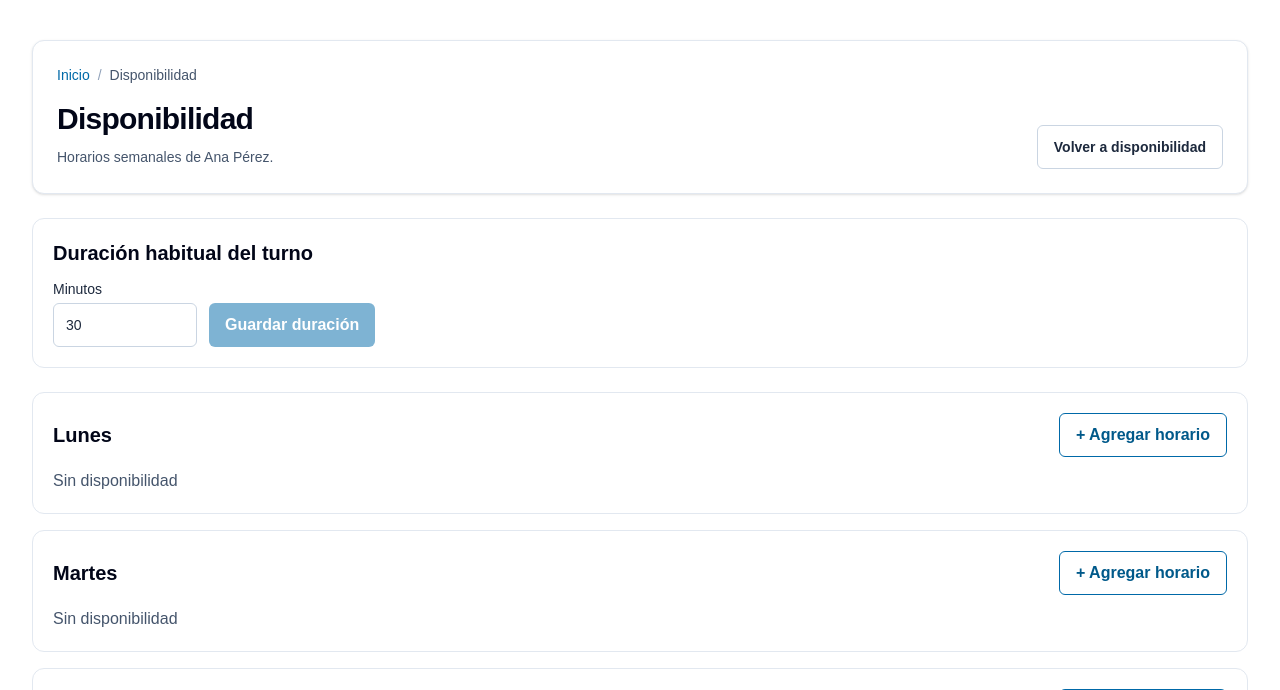
Test case: AvailabilityScreen › keeps duration disabled for equal or invalid values and disables it after success
Replace the text in the number field labelled "Minutos" with "31". click: (125, 325)
box: [53,303,197,347]
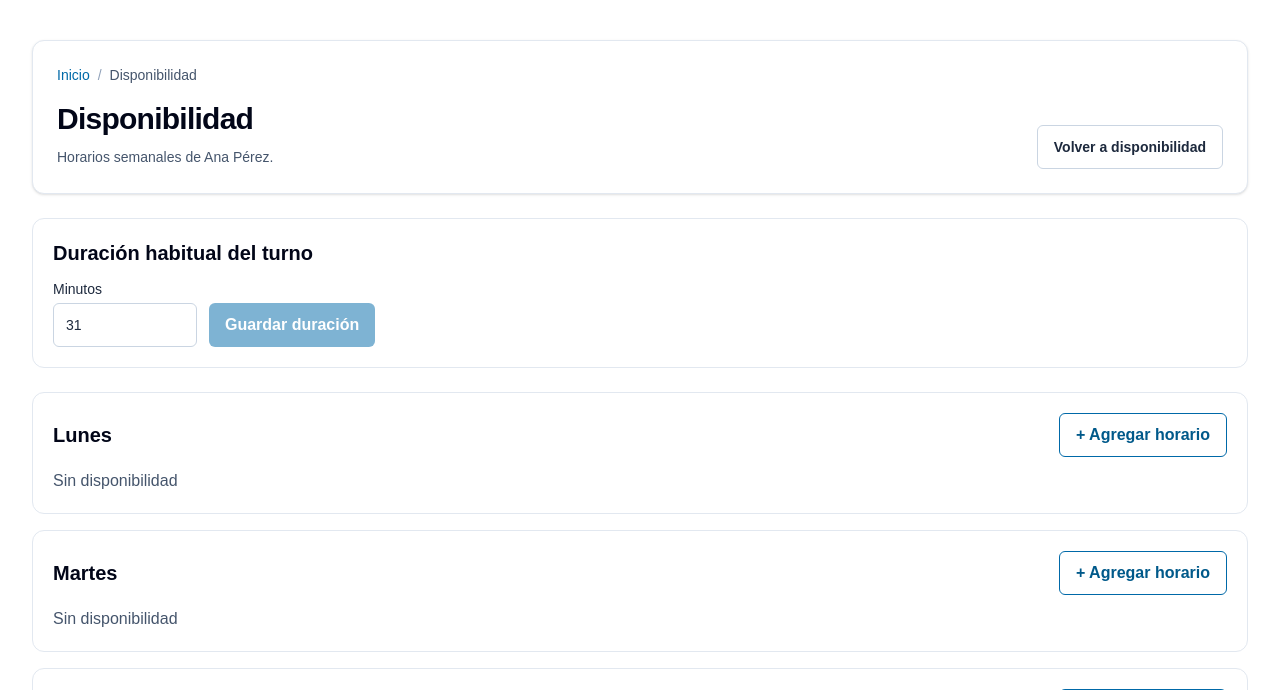
Check: the button "Guardar duración" is disabled, box [209,303,375,347]
Replace the text in the number field labelled "Minutos" with "480". click: (125, 325)
box: [53,303,197,347]
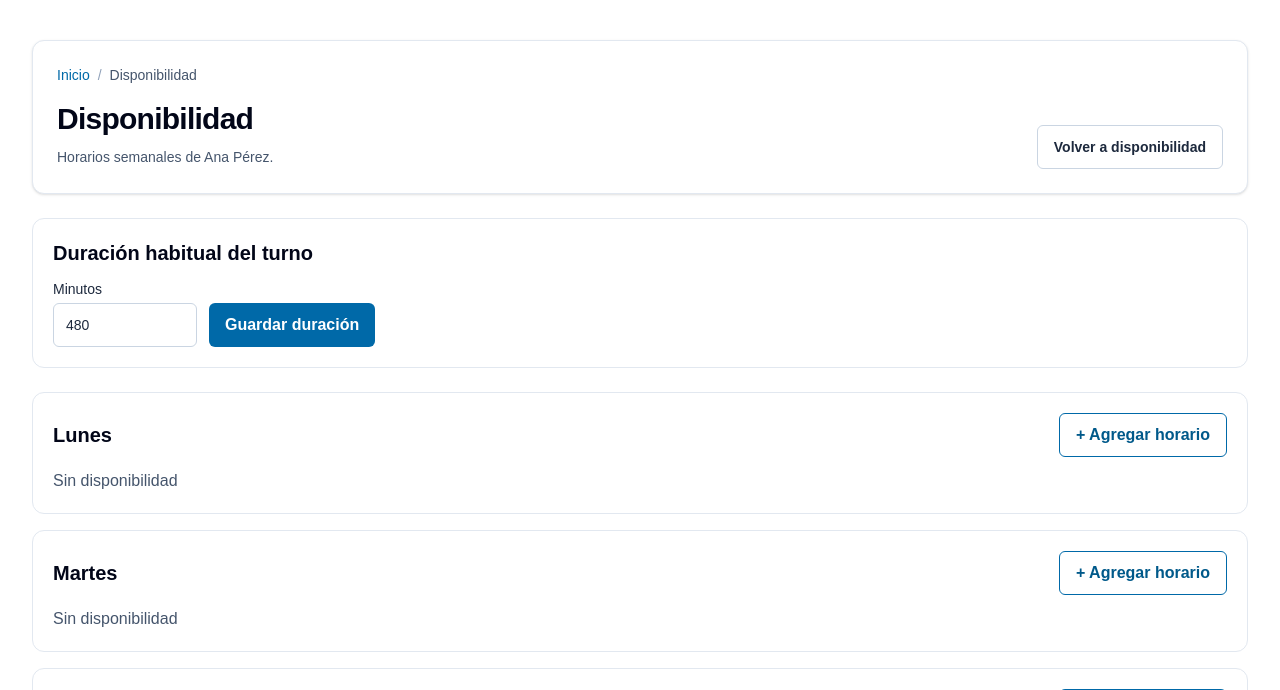
Check: the button "Guardar duración" is enabled
Click the button "Guardar duración". click: (292, 325)
box: [209,303,375,347]
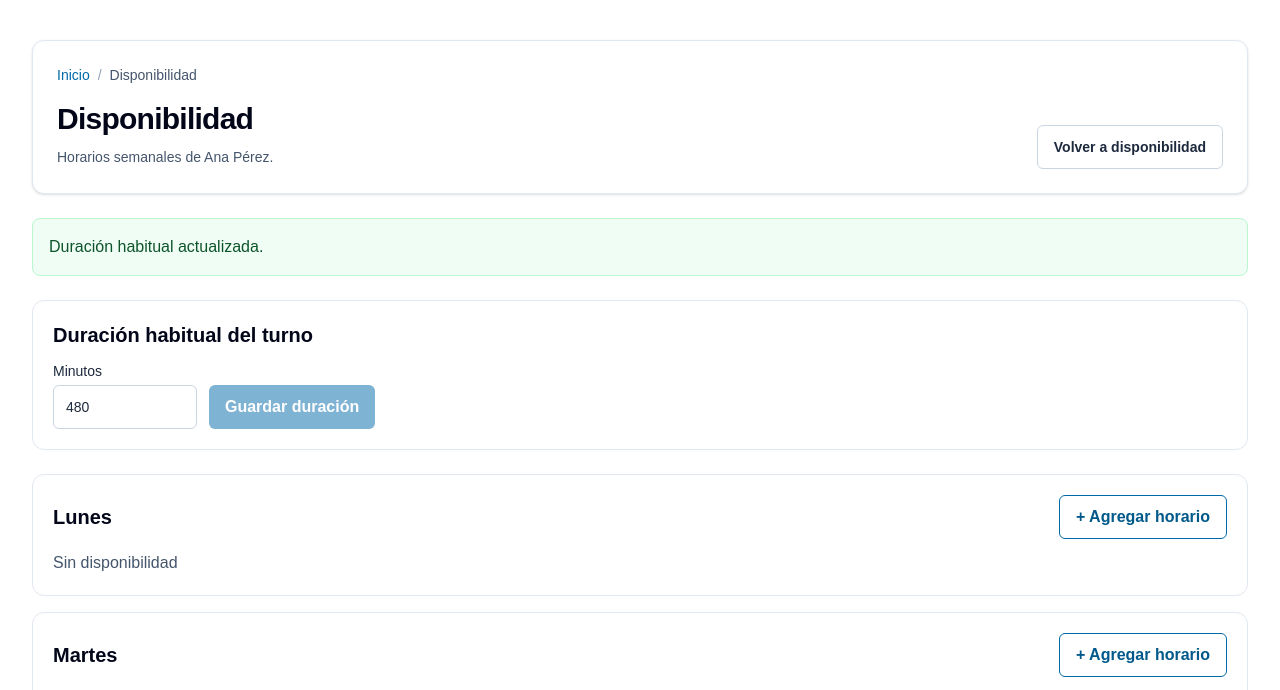
Check: the button "Guardar duración" is disabled, box [209,385,375,429]
